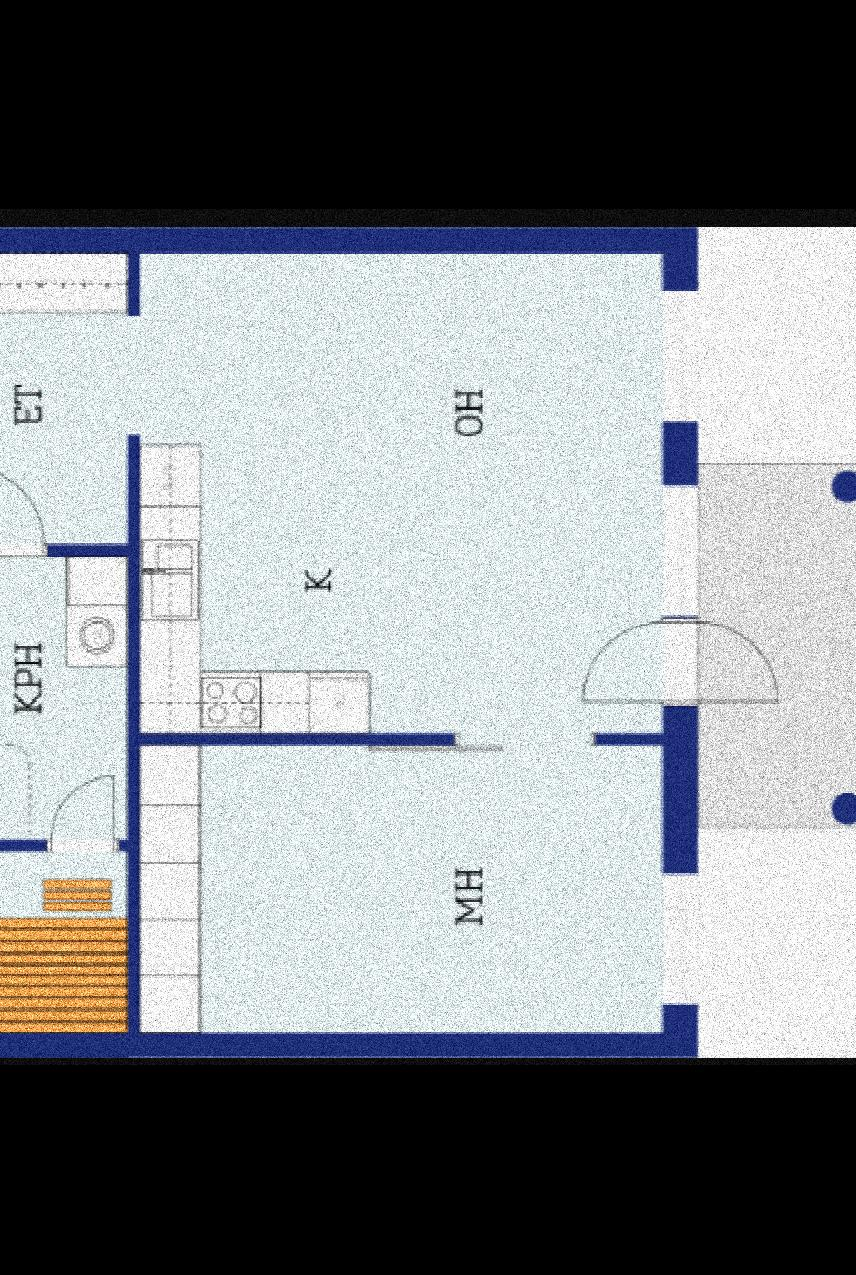door: (574, 594, 782, 731), (46, 768, 120, 854), (0, 463, 47, 559)
window: (660, 868, 702, 1010), (656, 480, 696, 614), (660, 292, 692, 424)
zone: (138, 256, 658, 742), (143, 752, 662, 1030), (704, 465, 856, 828), (0, 255, 128, 548), (0, 559, 122, 849), (0, 853, 126, 1034)
